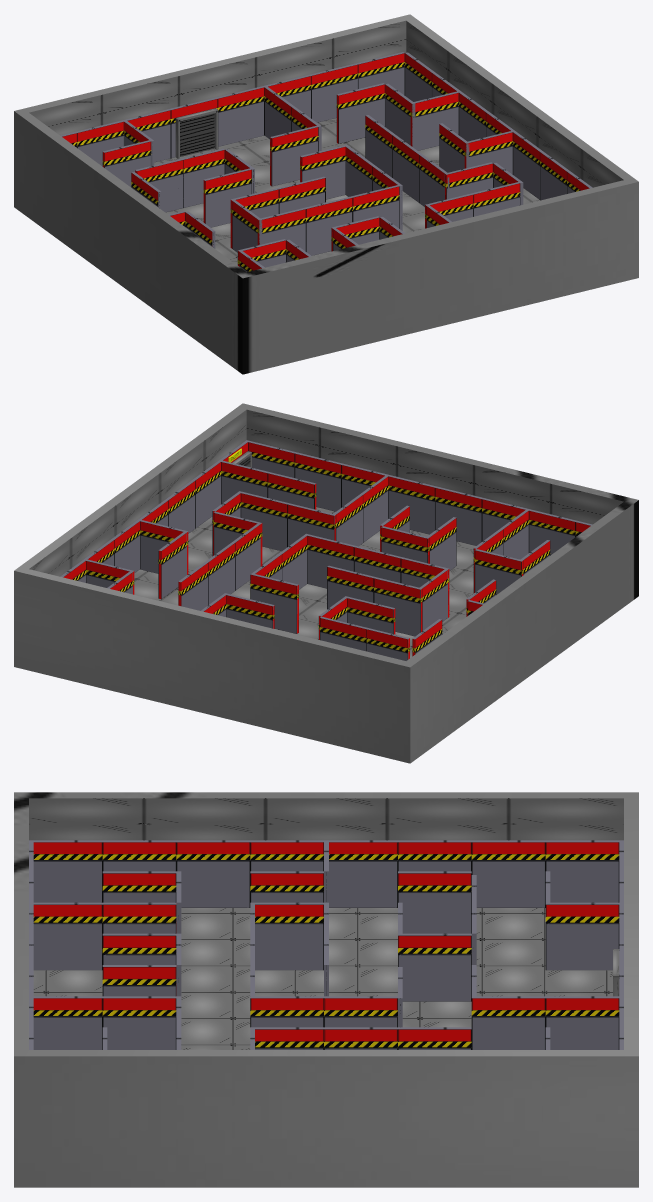
The model's file is Escenario3.glb.
3 views of the same model, one above another, from view 1: azimuth 30°, elevation 25°; view 2: azimuth 150°, elevation 25°; view 3: azimuth 270°, elevation 25° (orthographic). The views are drawn at different scales.
Parts seen in each view (by area): view 1: Cube.021, Cube.022, Cube.335, Cube.347, Cube.358, Cube.355, Cube.363, Cube.337, Cube.384, Cube.365, Cube.353, Cube.188 (+35 smaller); view 2: Cube.021, Cube.022, Cube.415, Cube.414, Cube.373, Cube.365, Cube.417, Cube.397, Cube.385, Cube.392, Cube.412, Cube.396 (+34 smaller); view 3: Cube.021, Cube.022, Cube.251, Cube.263, Cube.222, Cube.234, Cube.258, Cube.255, Cube.224, Cube.221, Cube.243, Cube.238 (+17 smaller).
Boxes of the visible parts, x1,y1,x2,y2 form: Cube.021: [14, 14, 638, 374]; Cube.022: [154, 118, 539, 265]; Cube.335: [216, 86, 264, 146]; Cube.347: [336, 83, 385, 143]; Cube.358: [410, 91, 458, 150]; Cube.355: [270, 125, 318, 186]; Cube.363: [203, 168, 251, 227]; Cube.337: [310, 63, 358, 122]; Cube.384: [304, 196, 352, 255]; Cube.365: [300, 144, 347, 199]; Cube.353: [177, 148, 224, 208]; Cube.188: [135, 160, 183, 212]; Cube.021: [14, 403, 638, 763]; Cube.022: [134, 507, 475, 657]; Cube.415: [388, 475, 436, 534]; Cube.414: [435, 486, 482, 545]; Cube.373: [374, 577, 422, 636]; Cube.365: [250, 573, 298, 633]; Cube.417: [294, 452, 342, 511]; Cube.397: [240, 492, 288, 551]; Cube.385: [307, 534, 355, 588]; Cube.392: [474, 549, 523, 594]; Cube.412: [528, 509, 576, 555]; Cube.396: [287, 503, 335, 546]; Cube.021: [14, 792, 638, 1187]; Cube.022: [33, 908, 612, 1049]; Cube.251: [545, 902, 619, 970]; Cube.263: [398, 933, 471, 1001]; Cube.222: [471, 840, 545, 907]; Cube.234: [176, 840, 250, 907]; Cube.258: [29, 902, 102, 970]; Cube.255: [250, 902, 323, 970]; Cube.224: [324, 840, 397, 907]; Cube.221: [545, 840, 619, 902]; Cube.243: [398, 871, 471, 933]; Cube.238: [29, 840, 102, 902].
Size of the model in its own units: 47.41 by 11 by 47.41.
5 materials, 5 textured.
